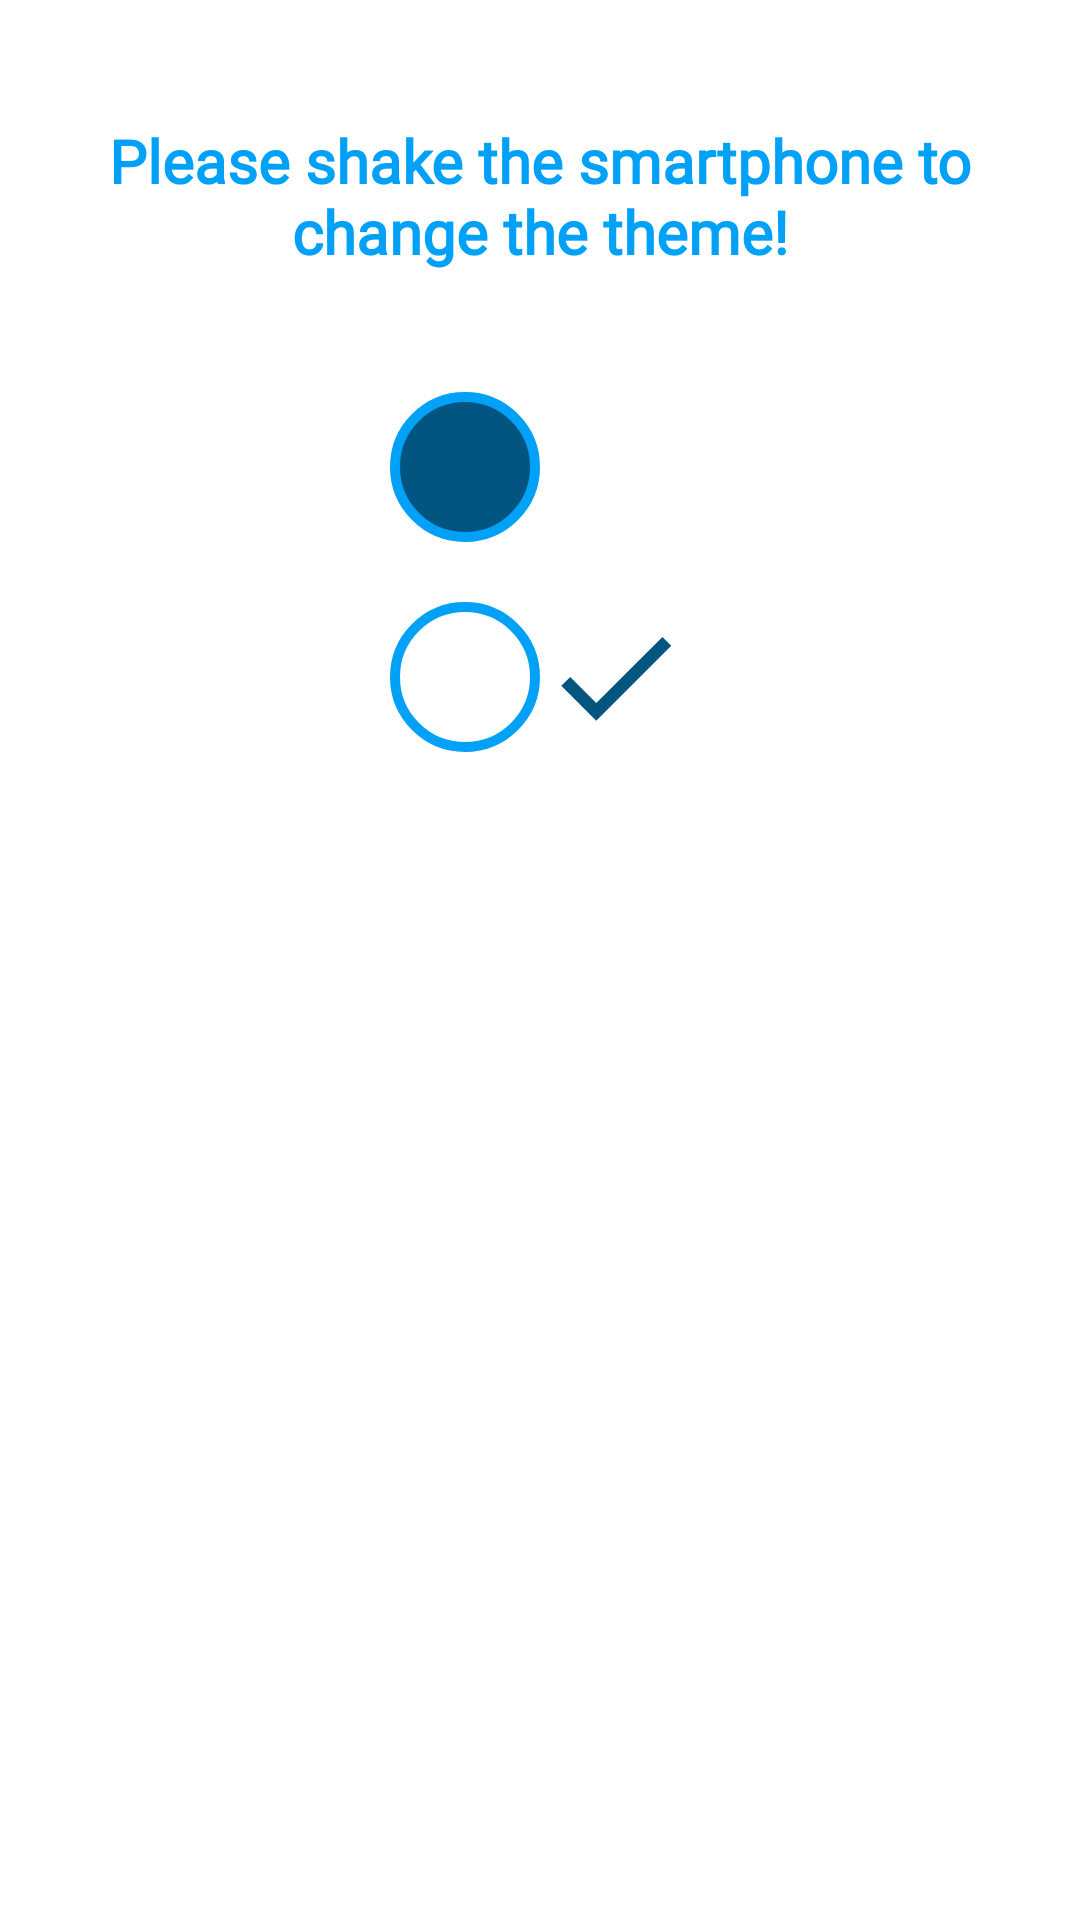

Icon click points for this 1080w x 1920h phone screenshot, format [x,y]:
circle theme change: [465,467], [465,677]
